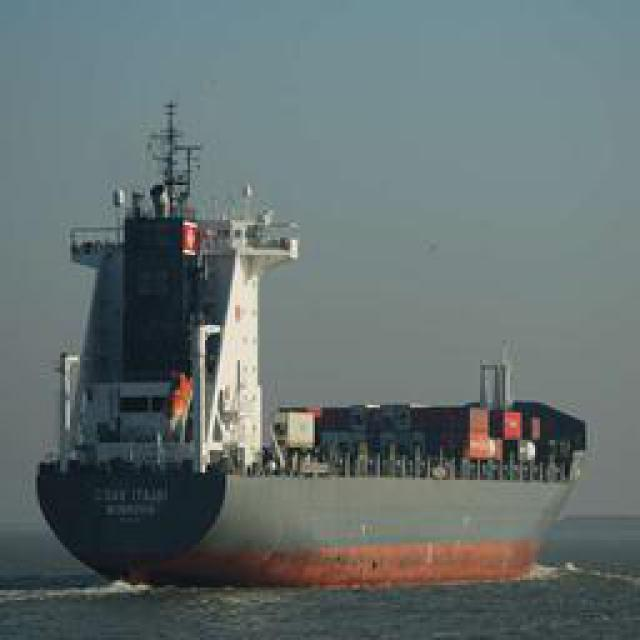Ship: (54, 68, 527, 603)
